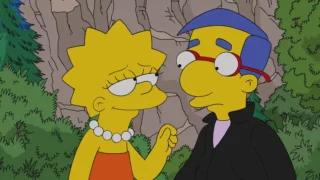Lisa: (58, 18, 178, 178)
